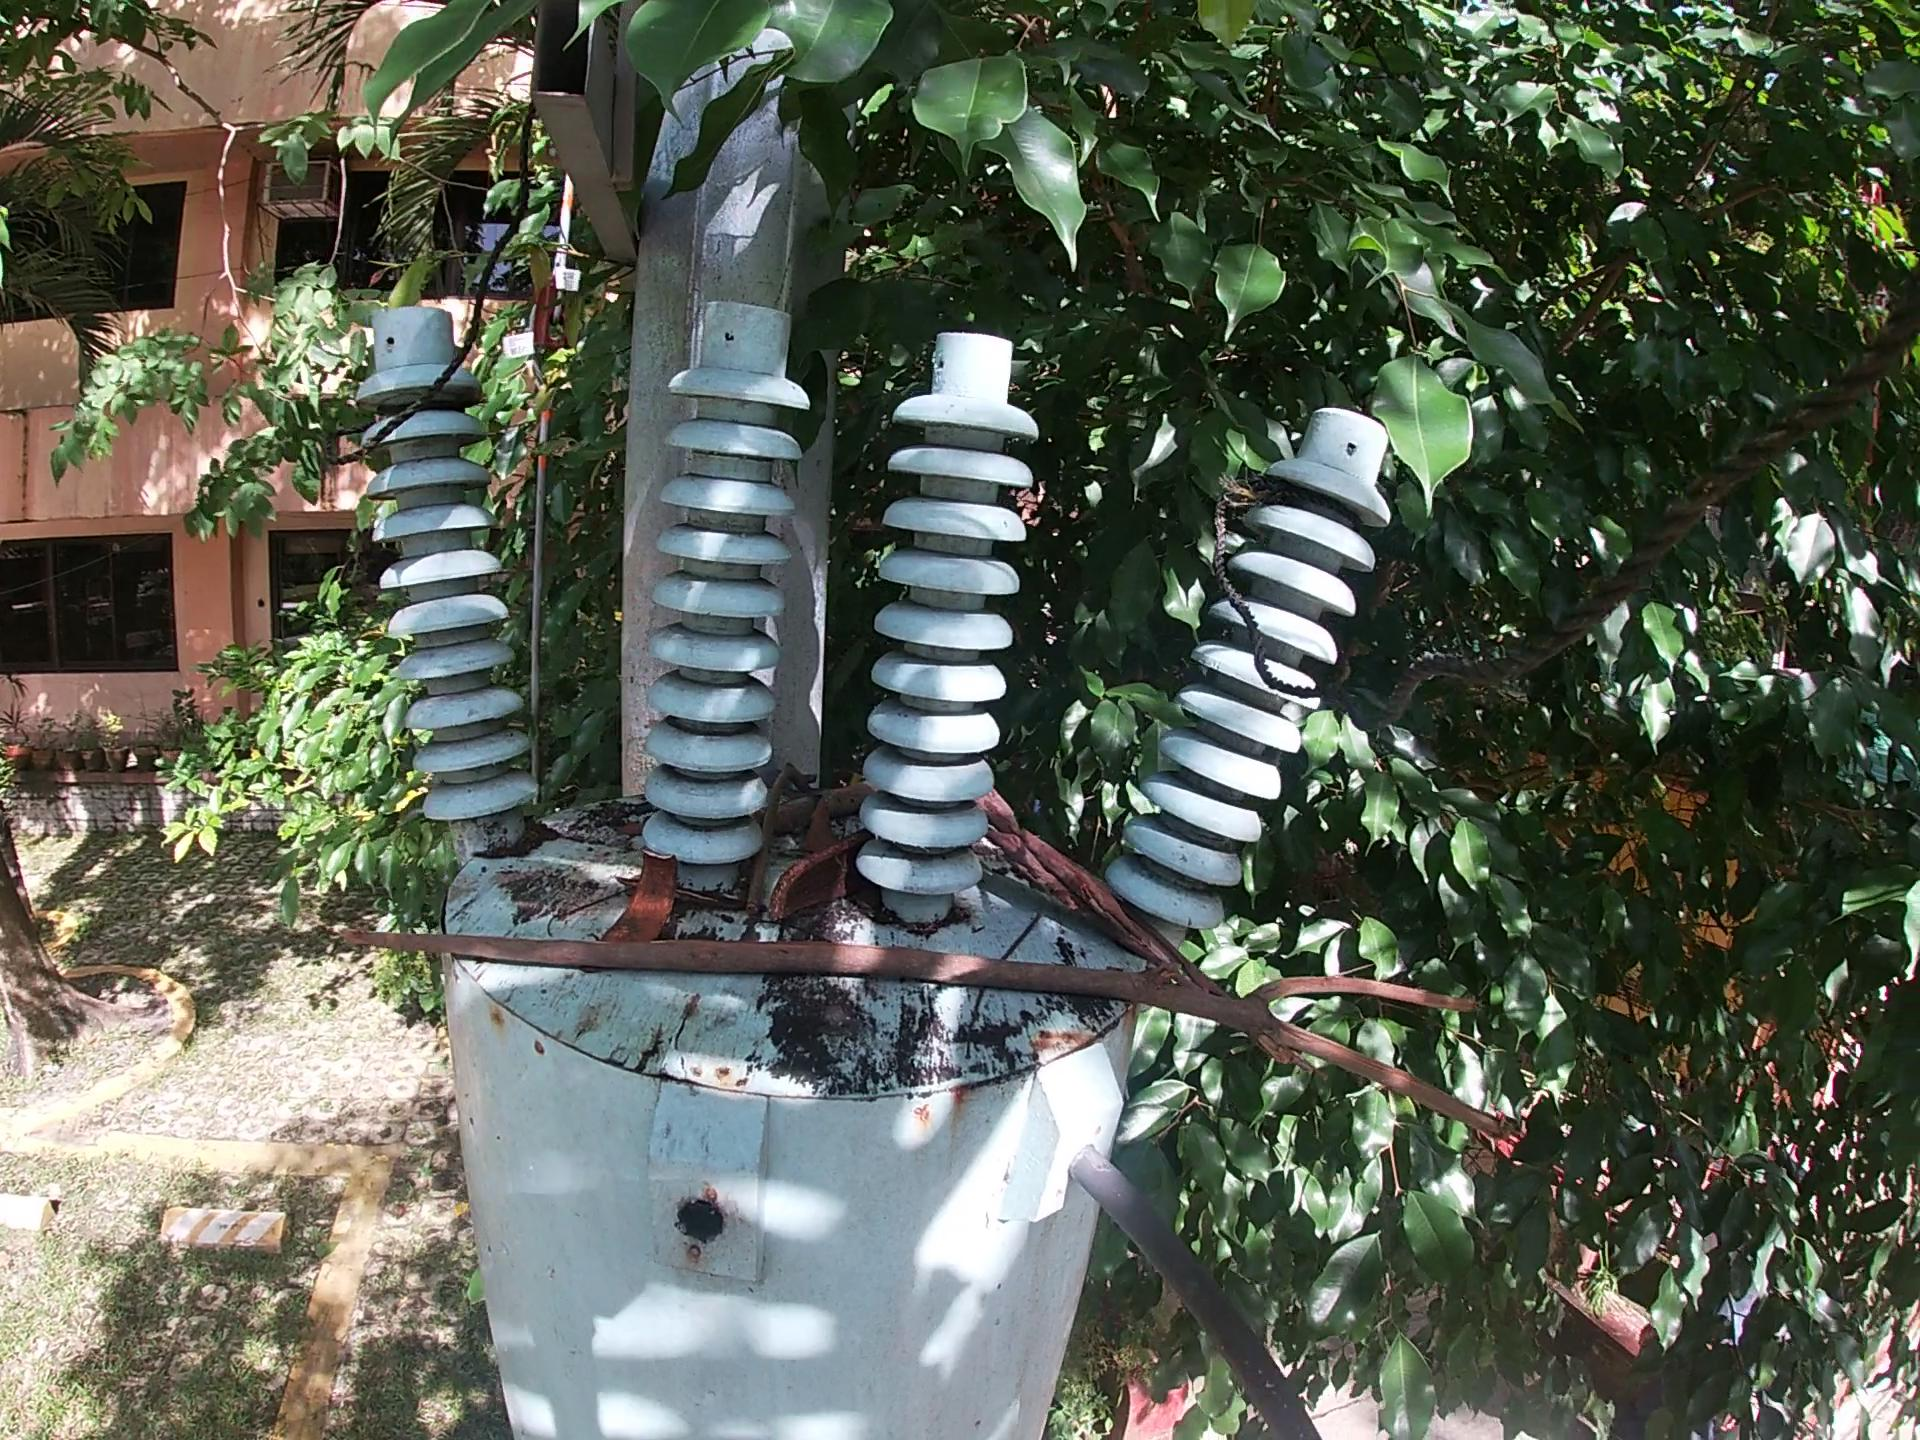leaf: (801, 805, 839, 849), (608, 823, 644, 843)
mahogany fruit: (757, 830, 872, 927), (599, 847, 688, 939)
tree branch: (340, 932, 1562, 1162), (980, 793, 1194, 985), (742, 770, 819, 914), (760, 777, 872, 843), (940, 989, 998, 1069), (532, 886, 618, 936), (992, 912, 1054, 959), (673, 877, 744, 911)
